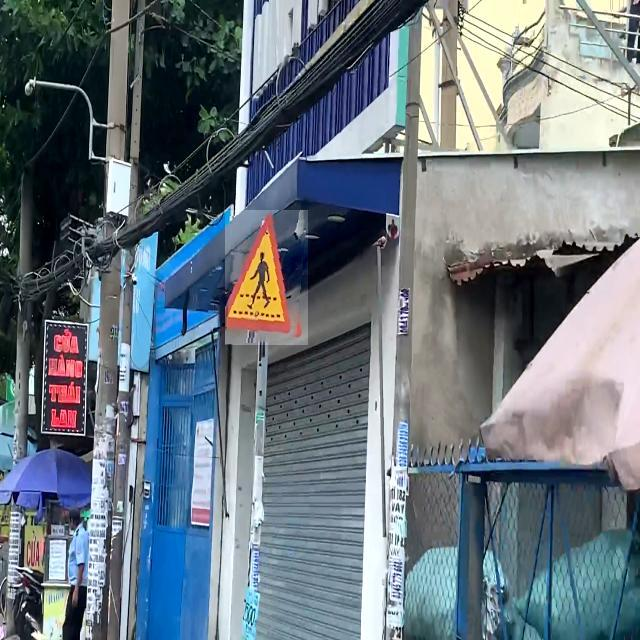W-224: (225, 210, 308, 345)
